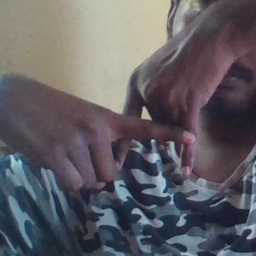H: (101, 83, 204, 191)
